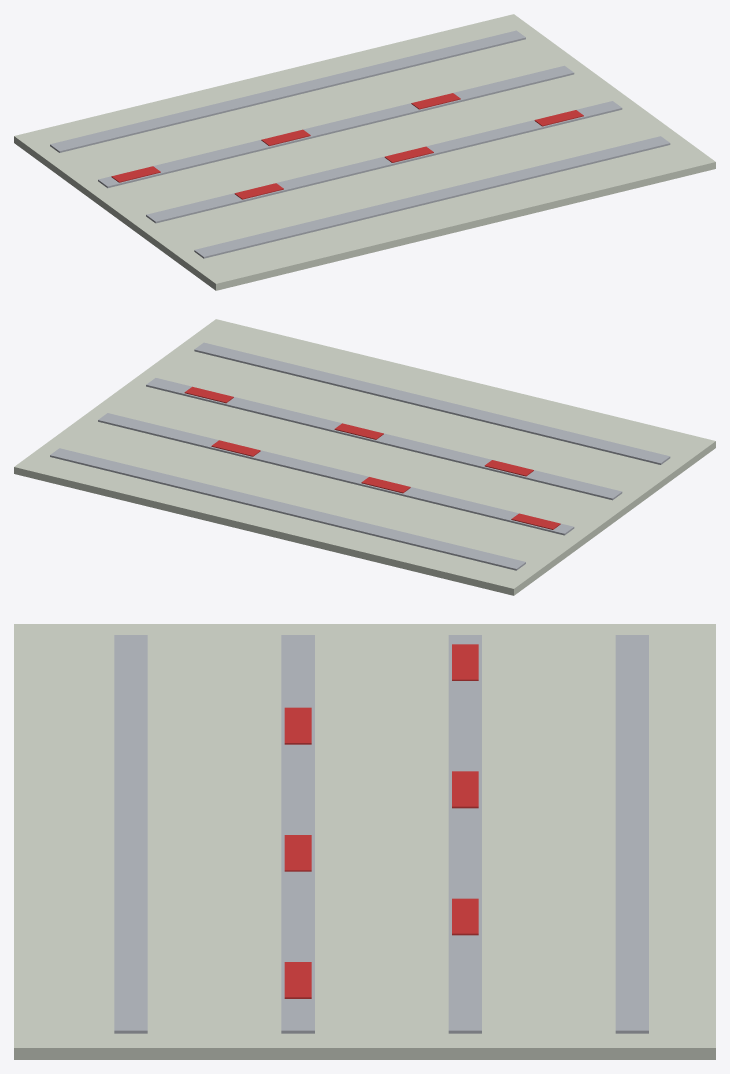
Rendered from parade_plan.glb.
3 renders of one model, top to bottom at view 1: azimuth 30°, elevation 25°; view 2: azimuth 150°, elevation 25°; view 3: azimuth 270°, elevation 25°, orthographic. The views are drawn at different scales.
Parts seen in each view (by area): view 1: sheet_map_paper, streets_map_street (×4); view 2: sheet_map_paper, streets_map_street (×4); view 3: sheet_map_paper, streets_map_street (×4), route_ink_red (×6).
Boxes of the visible parts, x1=… form: sheet_map_paper: x1=14, y1=14, x2=715, y2=290; streets_map_street (×4): x1=50, y1=30, x2=670, y2=258; sheet_map_paper: x1=14, y1=319, x2=715, y2=595; streets_map_street (×4): x1=50, y1=342, x2=670, y2=570; sheet_map_paper: x1=14, y1=624, x2=715, y2=1059; streets_map_street (×4): x1=114, y1=635, x2=648, y2=1033; route_ink_red (×6): x1=284, y1=644, x2=478, y2=998.
Bounding box in the file's own units: 0.3 × 0.0055 × 0.21.
